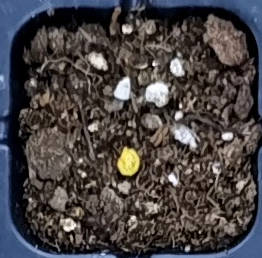chilli seed: (117, 146, 139, 177)
